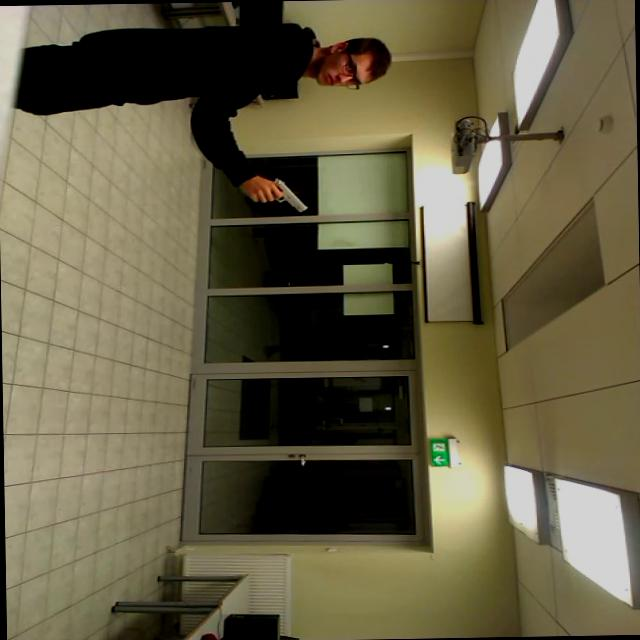handgun: (237, 172, 314, 217)
